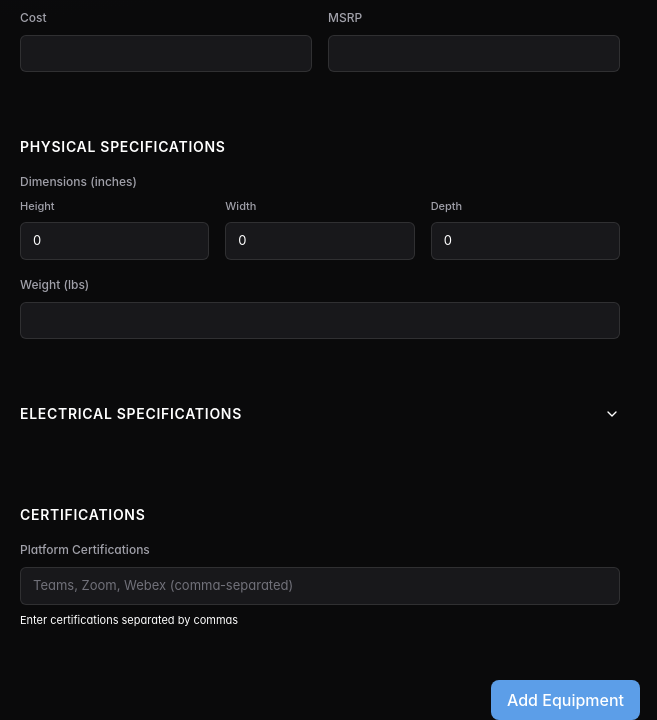
EquipmentForm › Form Validation › clears error when field is corrected
This screenshot has width=657, height=720.
(page scrolled)
Click the button "Add Equipment": (566, 700) [491,680,640,719]
(page scrolled)
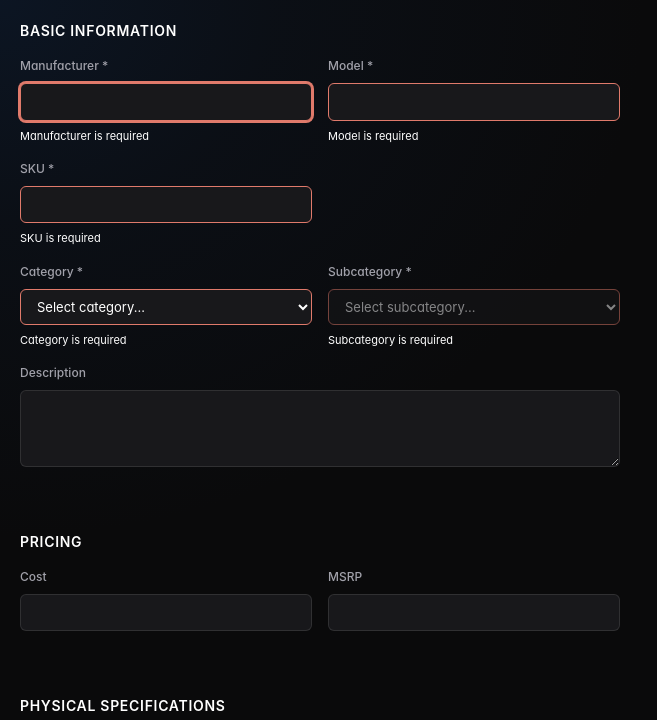
Now the text "Manufacturer is required" is shown, box [20,128,149,142]
In the field labelled "Manufacturer *": (166, 102) [20,83,312,120], type "Shure"
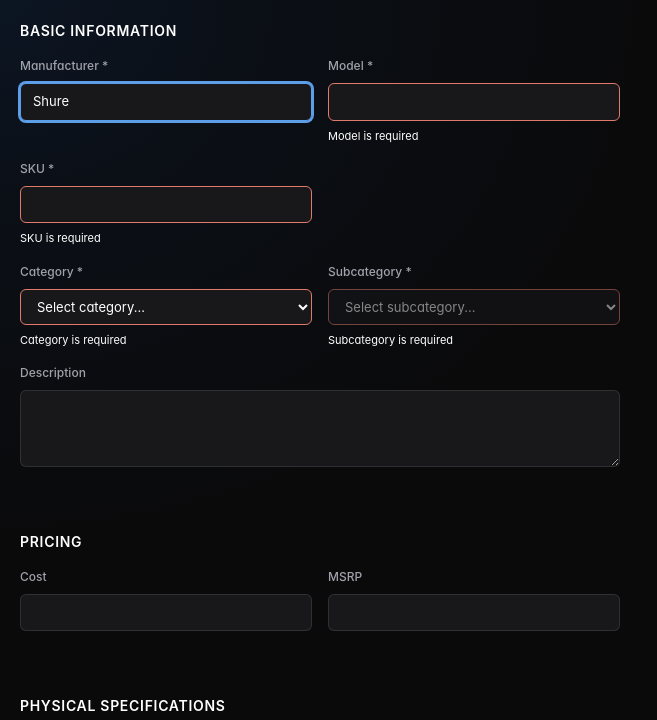
Now the text "Manufacturer is required" is gone
